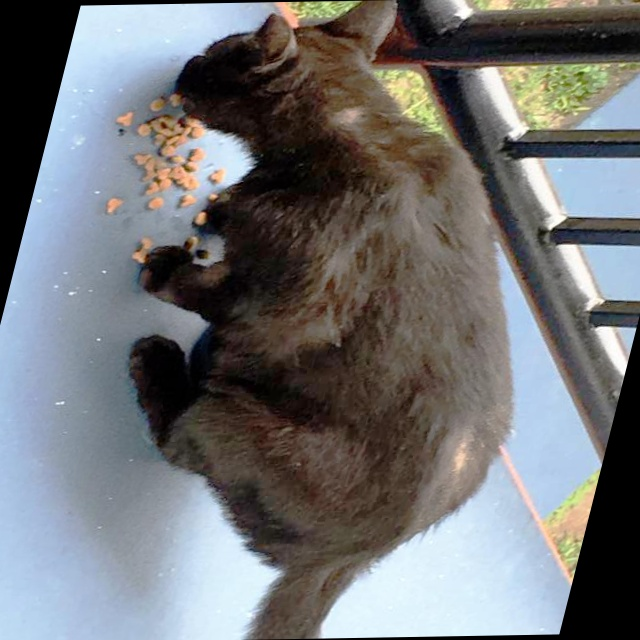hairloss: (444, 430, 484, 483), (336, 109, 371, 122)
